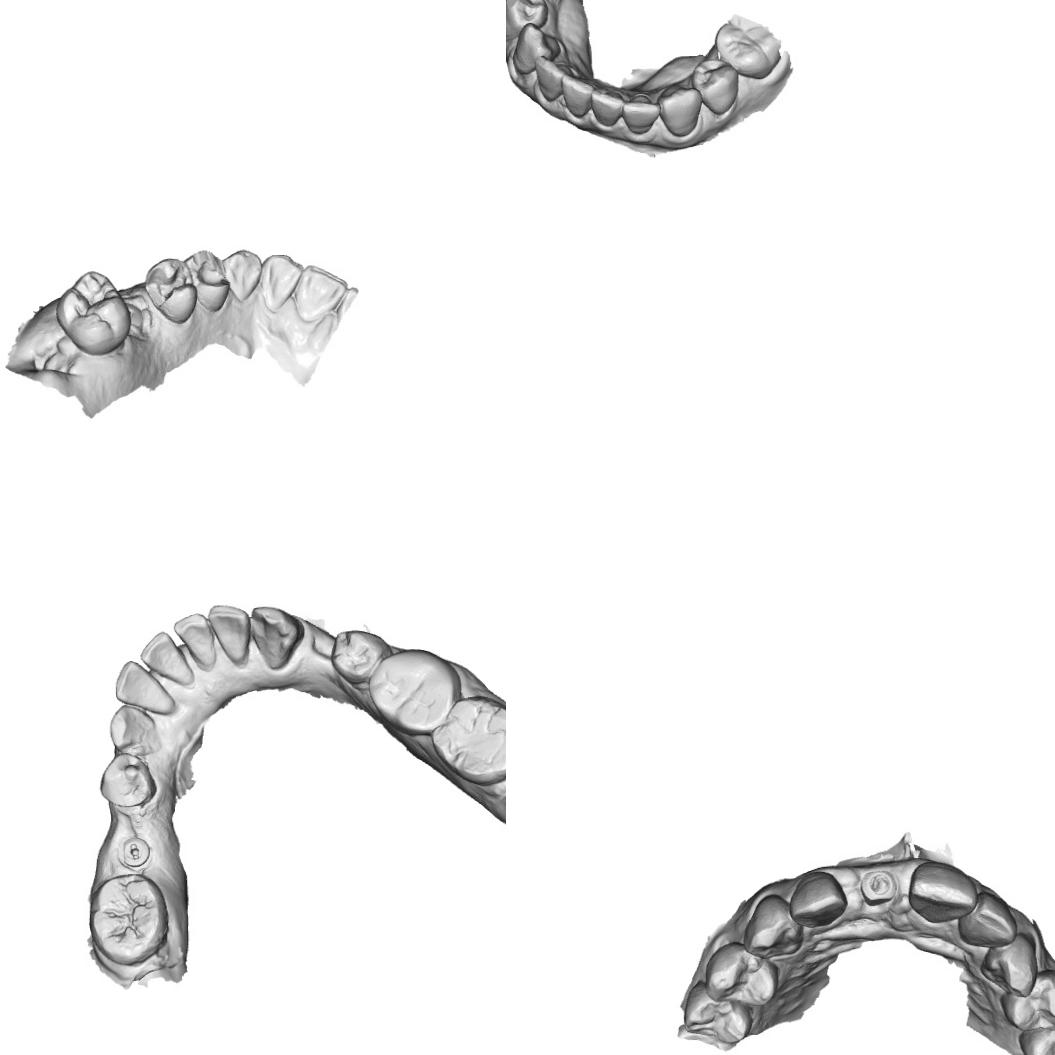canine: (740, 893, 800, 960), (249, 603, 306, 671), (978, 934, 1040, 996), (510, 22, 561, 74), (108, 703, 159, 755), (656, 83, 704, 137), (221, 248, 264, 302)
implant: (859, 865, 900, 907)
implant_minus: (120, 835, 151, 868)
incisor: (908, 856, 976, 926), (114, 658, 177, 717), (786, 870, 847, 929), (956, 892, 1018, 949), (291, 264, 349, 324), (139, 630, 195, 690), (207, 602, 253, 668), (171, 611, 218, 672), (260, 252, 304, 312), (534, 54, 570, 102), (622, 92, 662, 135), (561, 73, 596, 119), (589, 85, 624, 127)
molar: (366, 647, 463, 737), (88, 872, 171, 966), (428, 693, 506, 787), (53, 268, 134, 357), (713, 13, 780, 80)
premolar: (703, 941, 780, 1007), (682, 978, 752, 1044), (328, 628, 396, 695), (142, 256, 199, 324), (998, 969, 1055, 1031), (98, 752, 157, 808), (184, 248, 232, 313), (691, 58, 740, 115), (506, 0, 550, 38), (1018, 1017, 1055, 1055)
